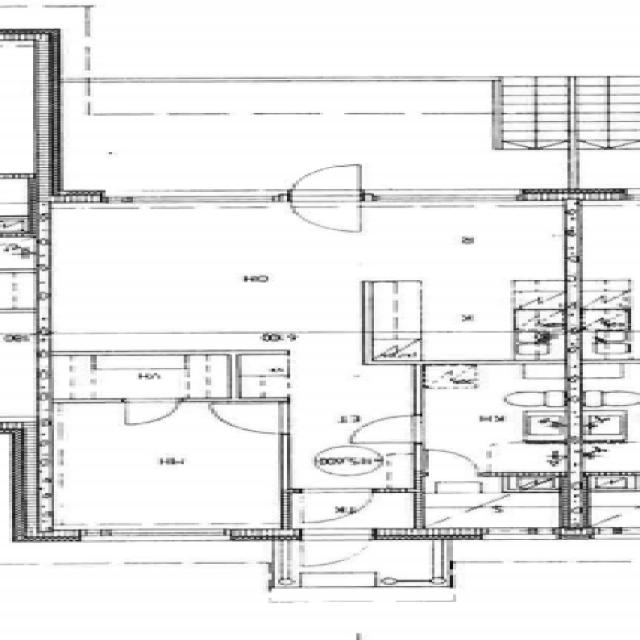door: (283, 160, 371, 238), (293, 528, 378, 570), (206, 398, 294, 436), (292, 487, 378, 524), (109, 396, 187, 429), (346, 413, 426, 445), (412, 446, 484, 478)
window: (67, 187, 293, 214), (361, 186, 568, 208), (63, 524, 238, 546), (465, 525, 568, 545)
zone: (38, 201, 366, 351), (29, 402, 286, 533), (415, 363, 572, 485), (352, 202, 578, 282), (360, 273, 567, 359), (44, 352, 238, 401), (413, 483, 573, 532), (572, 381, 640, 468), (572, 308, 636, 361), (581, 481, 640, 538)
